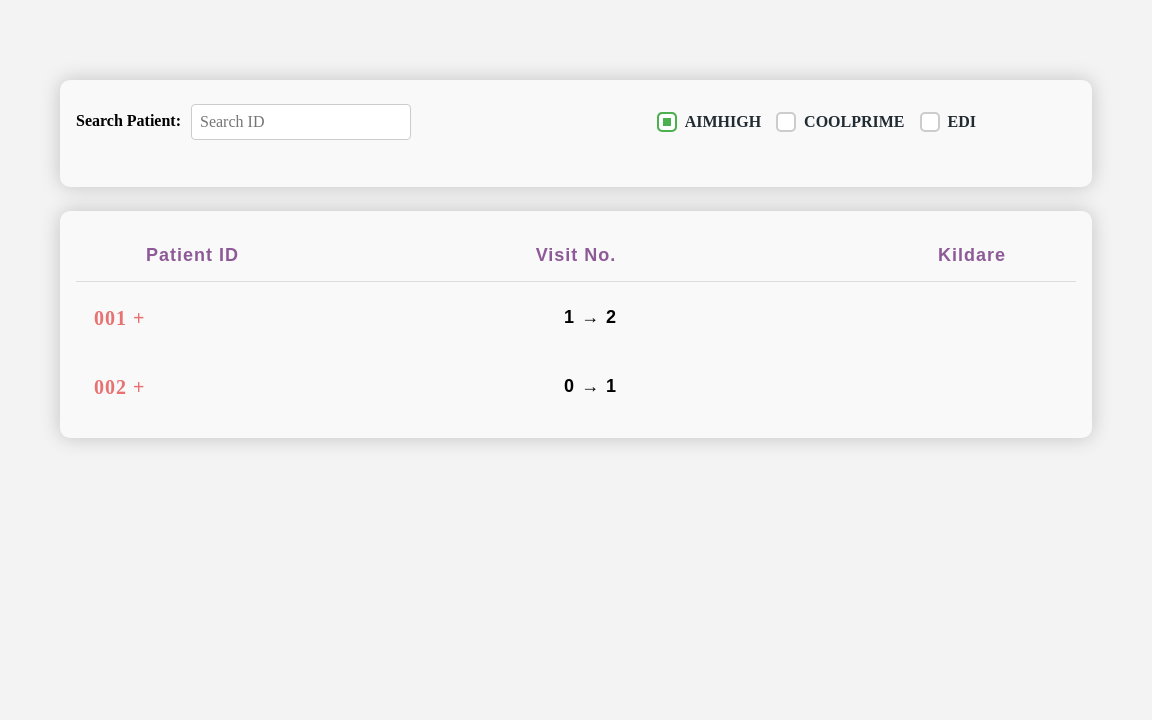
Appointments Component › Window event info › Patient in NICU displayed
Click the text "002 +" at (110,387), box [94,376,145,398]
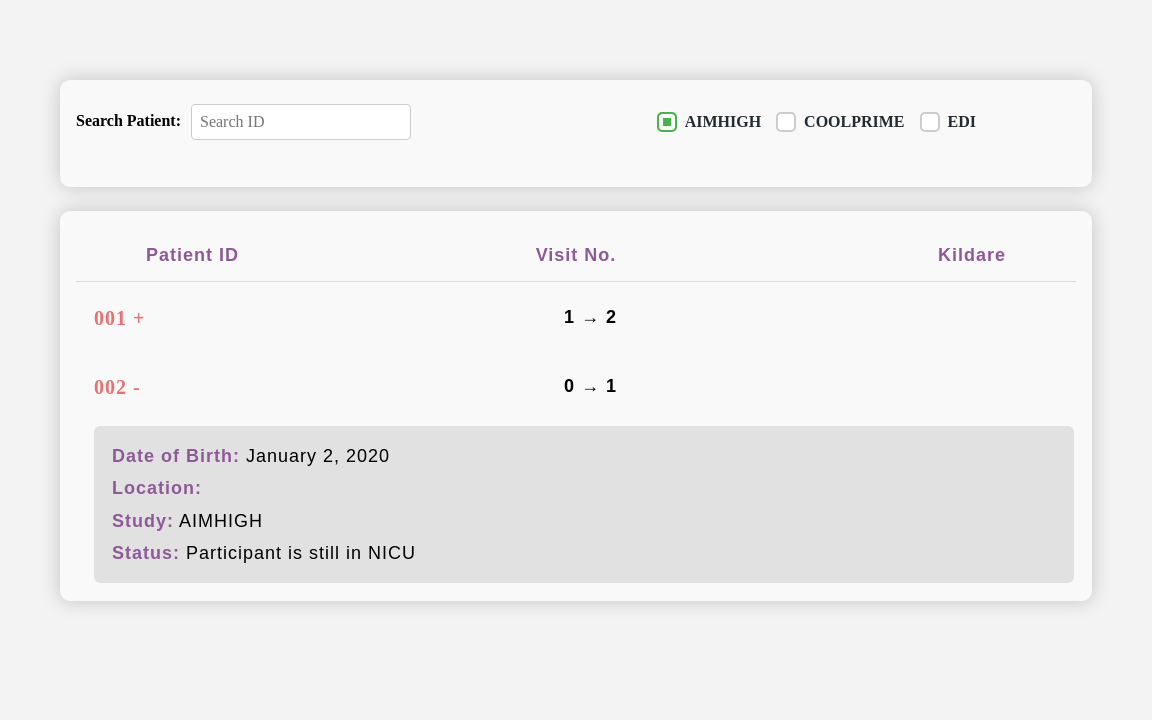
Result: the element with test id "status-label" shows "Participant is still in NICU" at [186,543,416,563]
